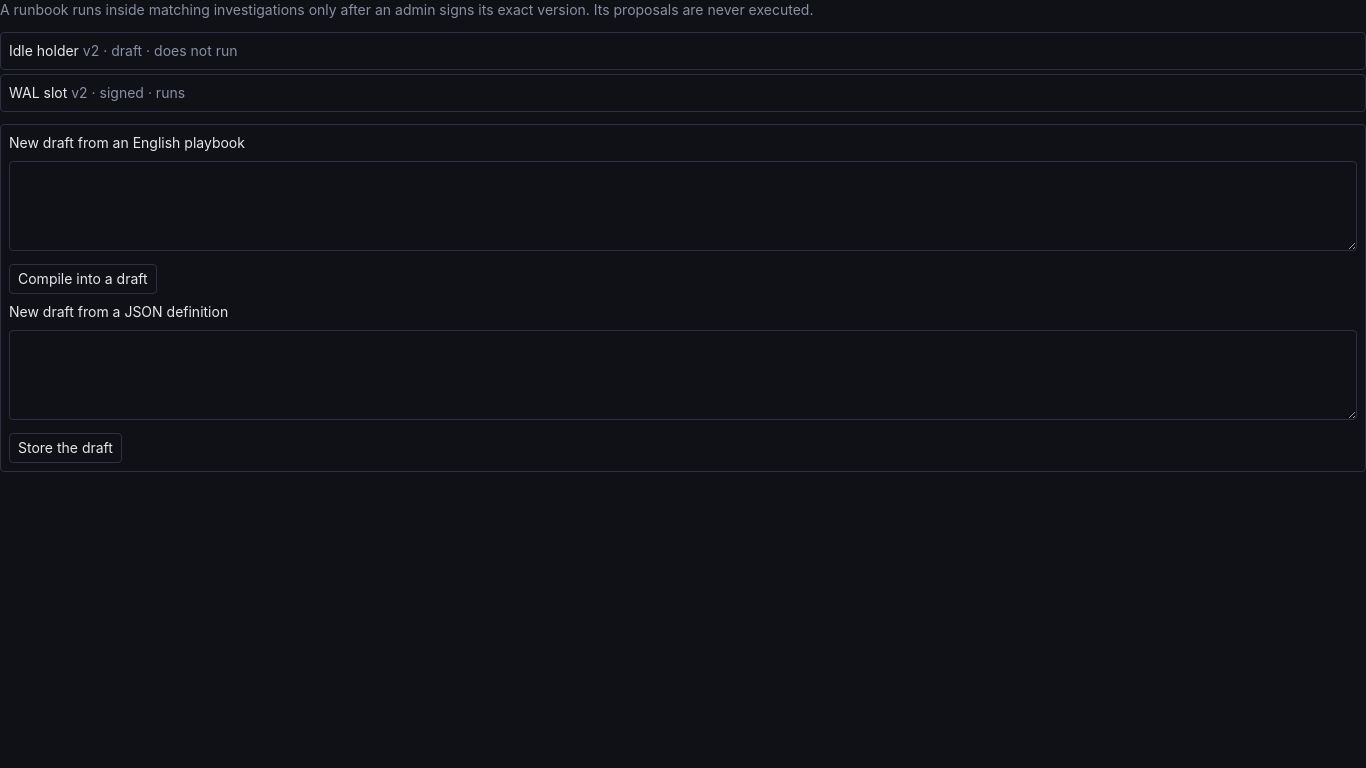
Test case: RunbooksPage › lets operators retire and write drafts but not sign
This screenshot has width=1366, height=768.
Click the button with test id "runbook-row-rb-1" at coordinates (44, 50), box [0,32,1365,70]
(page scrolled)
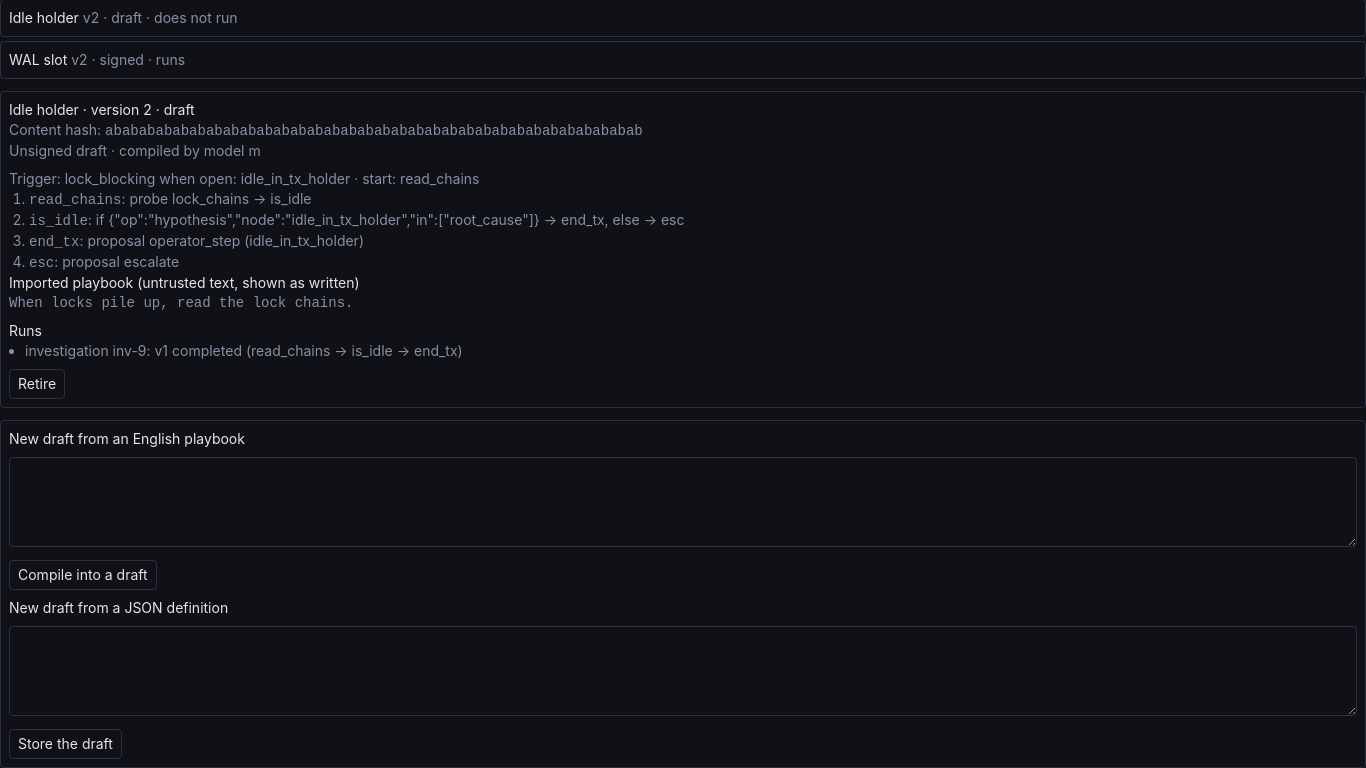
expect the button with test id "runbook-compile" is shown: met, box [9,560,157,590]
expect the button with test id "runbook-retire" is shown: met, box [9,369,65,399]
